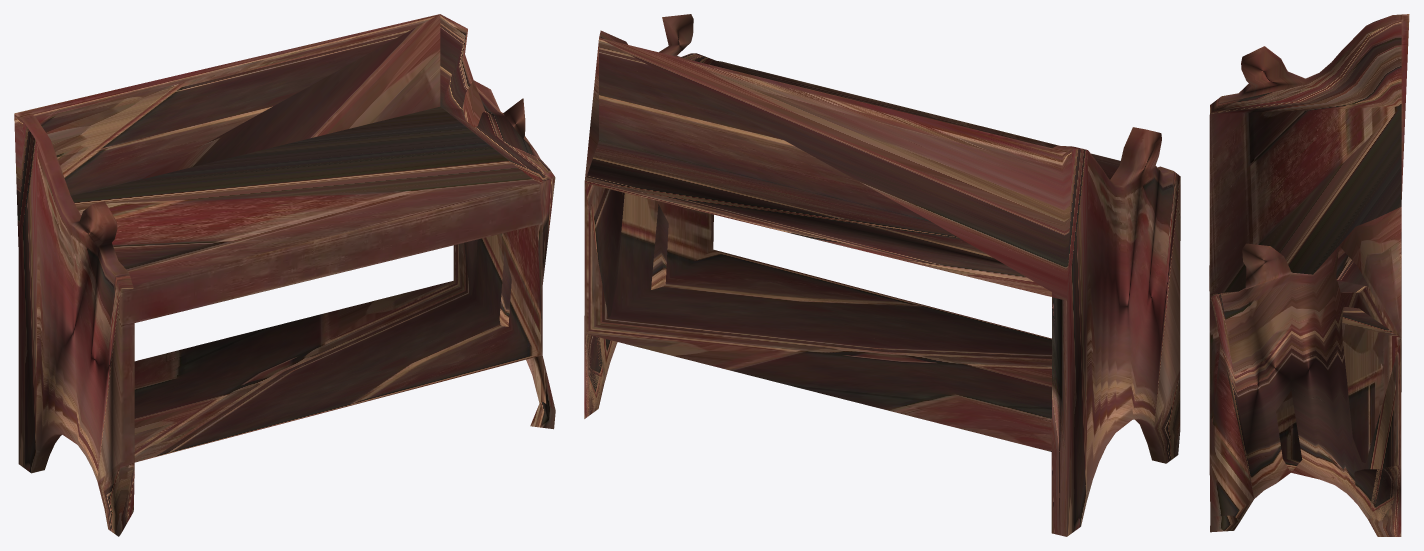
Rendered from Bench.glb.
The picture shows the model from 3 angles, left to right: view 1: azimuth 30°, elevation 25°; view 2: azimuth 150°, elevation 25°; view 3: azimuth 270°, elevation 25°; orthographic projection. The views are drawn at different scales.
Visible parts, largest first — view 1: painted_wooden_bench; view 2: painted_wooden_bench; view 3: painted_wooden_bench.
Part boxes in pixels (<box>): painted_wooden_bench: <box>14,14,555,536</box>; painted_wooden_bench: <box>584,14,1180,536</box>; painted_wooden_bench: <box>1209,14,1409,536</box>.
Size of the model in its own units: 1.16 by 0.8893 by 0.4965.
1 material, 1 textured.
